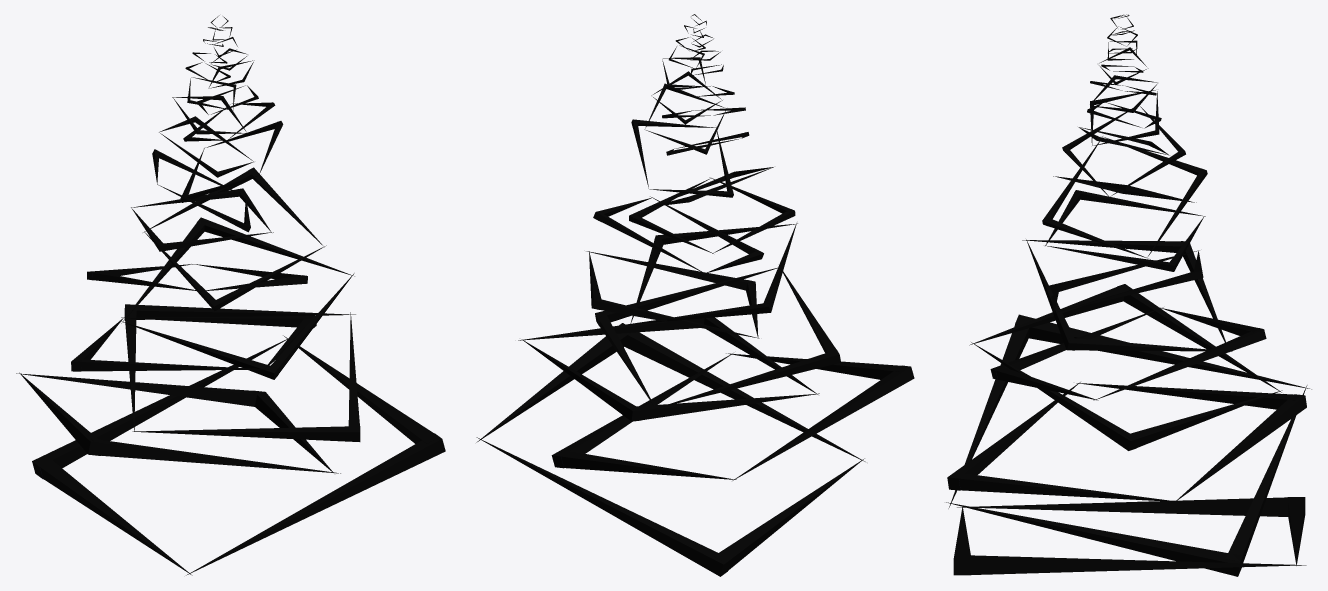
File: Project_frame.glb
3 views of the same model, side by side, from view 1: azimuth 30°, elevation 25°; view 2: azimuth 150°, elevation 25°; view 3: azimuth 270°, elevation 25° (orthographic). The views are drawn at different scales.
Visible parts, largest first — view 1: mesh_id967, mesh_id961, mesh_id958, mesh_id819, mesh_id825, mesh_id909, mesh_id964, mesh_id903, mesh_id919, mesh_id913, mesh_id828, mesh_id938 (+9 smaller); view 2: mesh_id961, mesh_id967, mesh_id828, mesh_id958, mesh_id819, mesh_id964, mesh_id822, mesh_id922, mesh_id900, mesh_id903, mesh_id825, mesh_id916 (+9 smaller); view 3: mesh_id964, mesh_id958, mesh_id822, mesh_id906, mesh_id828, mesh_id900, mesh_id819, mesh_id903, mesh_id825, mesh_id916, mesh_id909, mesh_id922 (+18 smaller).
Part boxes in pixels (x1,y1,x2,y2): mesh_id967: [186, 433, 445, 575]; mesh_id961: [32, 339, 287, 478]; mesh_id958: [35, 456, 192, 575]; mesh_id819: [16, 373, 265, 406]; mesh_id825: [91, 438, 340, 473]; mesh_id909: [132, 426, 360, 441]; mesh_id964: [283, 335, 438, 443]; mesh_id903: [124, 304, 355, 319]; mesh_id919: [74, 359, 268, 371]; mesh_id913: [121, 316, 312, 327]; mesh_id828: [19, 372, 103, 455]; mesh_id938: [121, 321, 278, 379]; mesh_id961: [476, 437, 731, 576]; mesh_id967: [619, 323, 865, 461]; mesh_id828: [732, 365, 914, 480]; mesh_id958: [713, 458, 864, 570]; mesh_id819: [555, 450, 736, 479]; mesh_id964: [476, 325, 629, 442]; mesh_id822: [551, 353, 733, 468]; mesh_id922: [652, 349, 840, 409]; mesh_id900: [630, 393, 819, 420]; mesh_id903: [521, 339, 642, 421]; mesh_id825: [726, 353, 907, 379]; mesh_id916: [595, 267, 777, 325]; mesh_id964: [959, 555, 1306, 574]; mesh_id958: [957, 497, 1299, 516]; mesh_id822: [946, 502, 1242, 576]; mesh_id906: [951, 472, 1181, 502]; mesh_id828: [1015, 314, 1311, 389]; mesh_id900: [1076, 383, 1300, 409]; mesh_id819: [1225, 385, 1307, 563]; mesh_id903: [1173, 394, 1306, 503]; mesh_id825: [948, 317, 1030, 508]; mesh_id916: [971, 342, 1138, 450]; mesh_id909: [947, 382, 1080, 490]; mesh_id922: [1117, 284, 1281, 392].
Bounding box in the file's own units: 0.46 × 0.6408 × 0.3832.
Materials: 96 (96 with a texture image).
